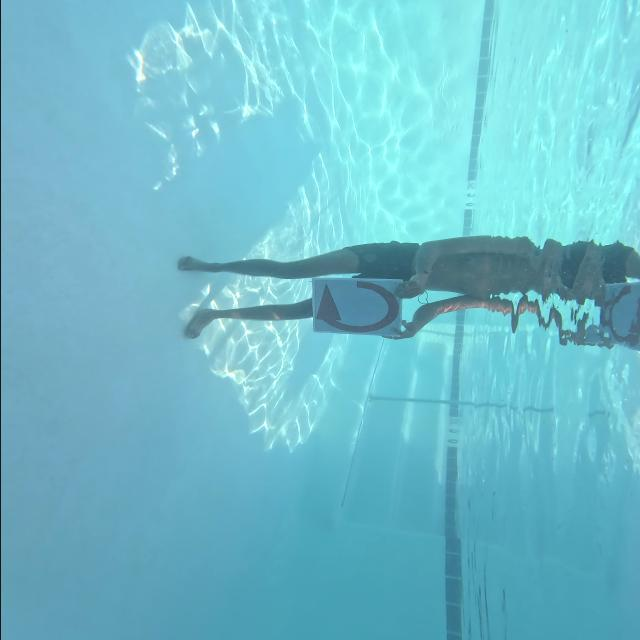red_side: (304, 278, 415, 334)
